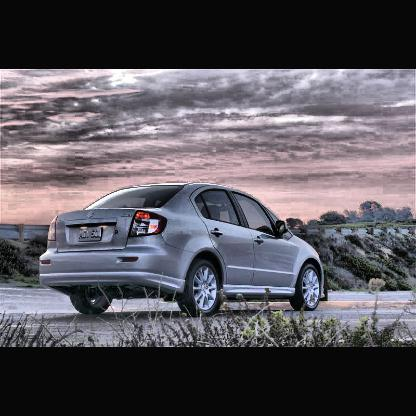Suzuki SX4 Sedan 2012: (39, 180, 328, 318)
